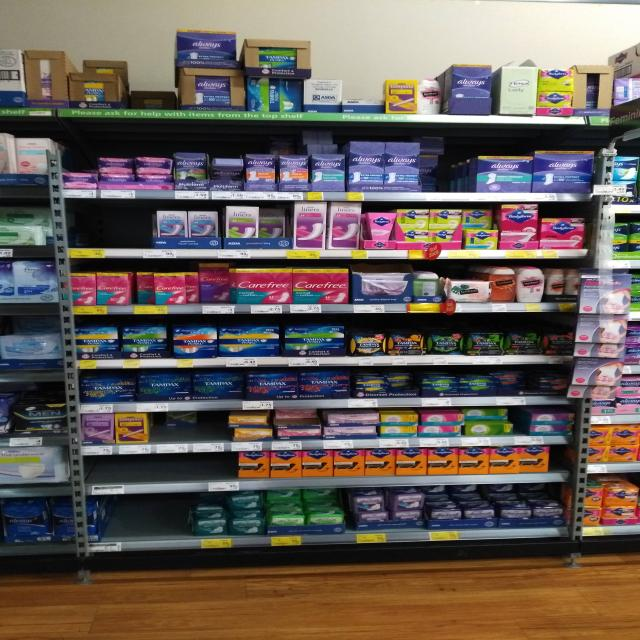void: (147, 496, 195, 550), (70, 202, 114, 258), (115, 203, 155, 258), (104, 496, 143, 552), (80, 456, 124, 494), (444, 156, 476, 202), (159, 454, 197, 492), (198, 453, 234, 490), (126, 455, 158, 494), (552, 445, 576, 480)
